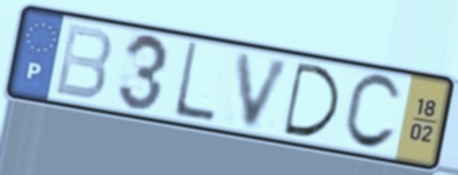3: (115, 32, 170, 115)
B: (51, 21, 115, 103)
C: (339, 71, 405, 153)
D: (280, 59, 343, 140)
L: (170, 39, 218, 126)
V: (233, 49, 296, 133)
